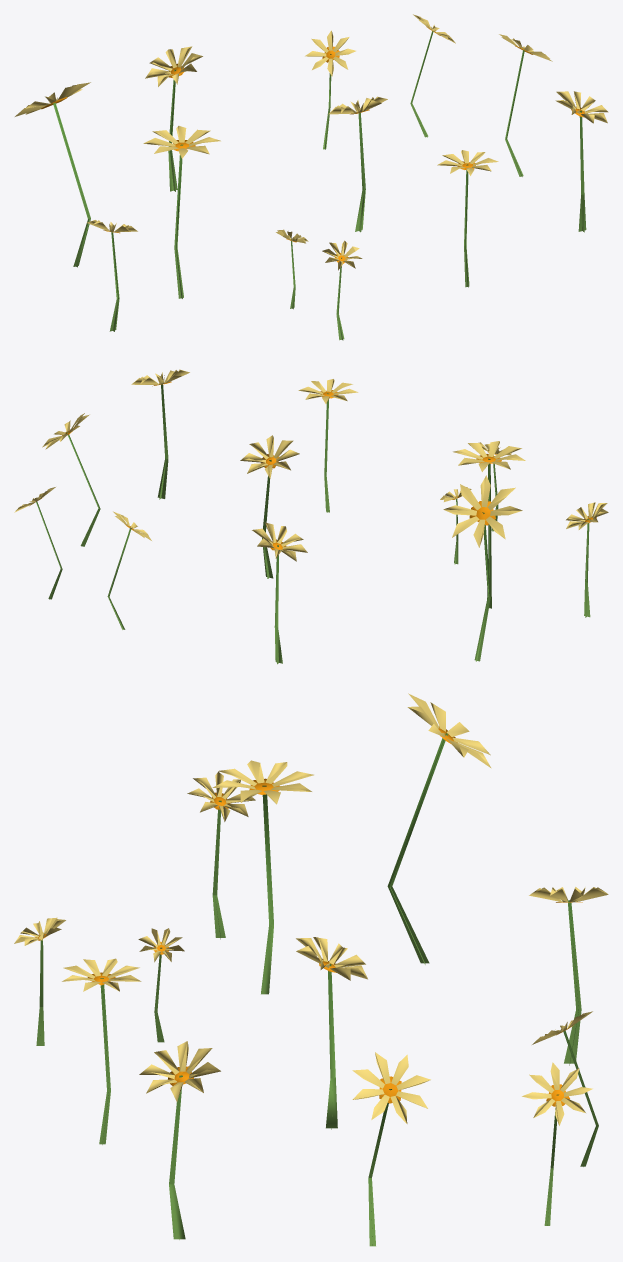
File: flower_daisy_yellow_low.glb
3 views of the same model, one above another, from view 1: azimuth 30°, elevation 25°; view 2: azimuth 150°, elevation 25°; view 3: azimuth 270°, elevation 25° (orthographic). The views are drawn at different scales.
Visible parts, largest first — view 1: Flower 4_4_A; view 2: Flower 4_4_A; view 3: Flower 4_4_A.
Part boxes in pixels (box(x1,y1,x2,y2)): Flower 4_4_A: box(15, 14, 608, 340); Flower 4_4_A: box(14, 369, 608, 664); Flower 4_4_A: box(14, 693, 608, 1246).
Bounding box in the file's own units: 0.6073 × 0.2104 × 0.4454.
Materials: 1 (1 with a texture image).
